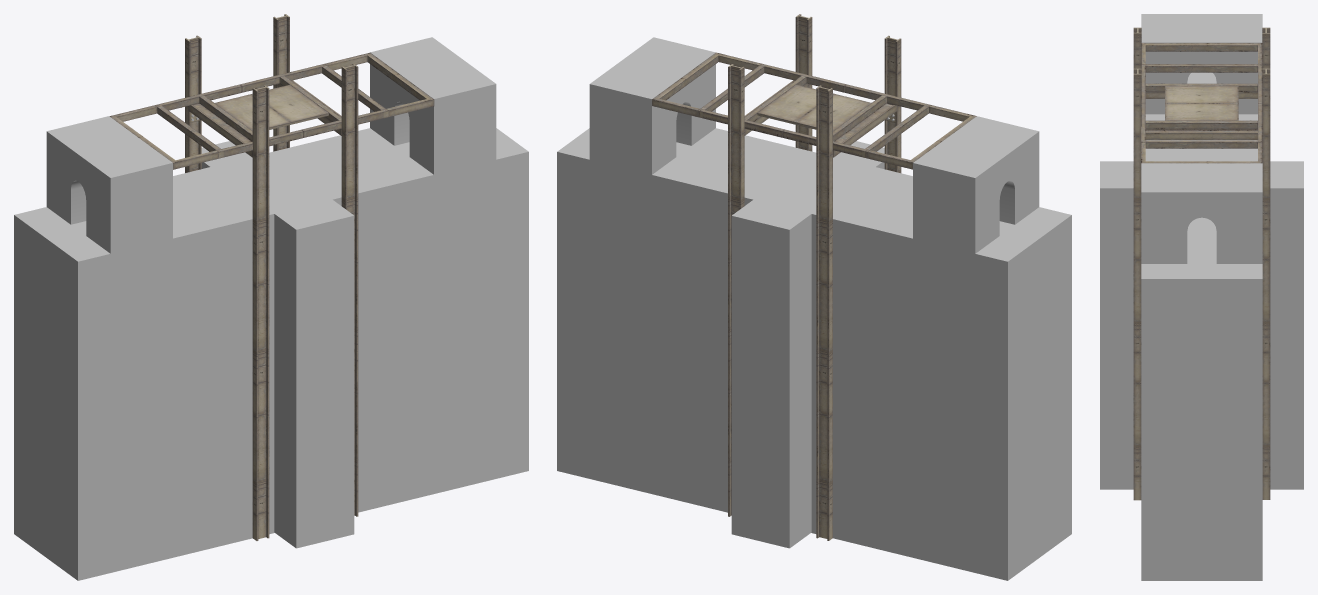
Rendered from SM_LevelTest04_Block00.fbx.
3 renders of one model, left to right at view 1: azimuth 30°, elevation 25°; view 2: azimuth 150°, elevation 25°; view 3: azimuth 270°, elevation 25°, orthographic. The views are drawn at different scales.
Parts seen in each view (by area): view 1: SM_LevelTest04_Block00; view 2: SM_LevelTest04_Block00; view 3: SM_LevelTest04_Block00.
Part boxes in pixels (x1=…): SM_LevelTest04_Block00: x1=14, y1=14, x2=528, y2=580; SM_LevelTest04_Block00: x1=557, y1=14, x2=1071, y2=580; SM_LevelTest04_Block00: x1=1100, y1=14, x2=1303, y2=580.
Bounding box in the file's own units: 2893 × 2759 × 1197.
